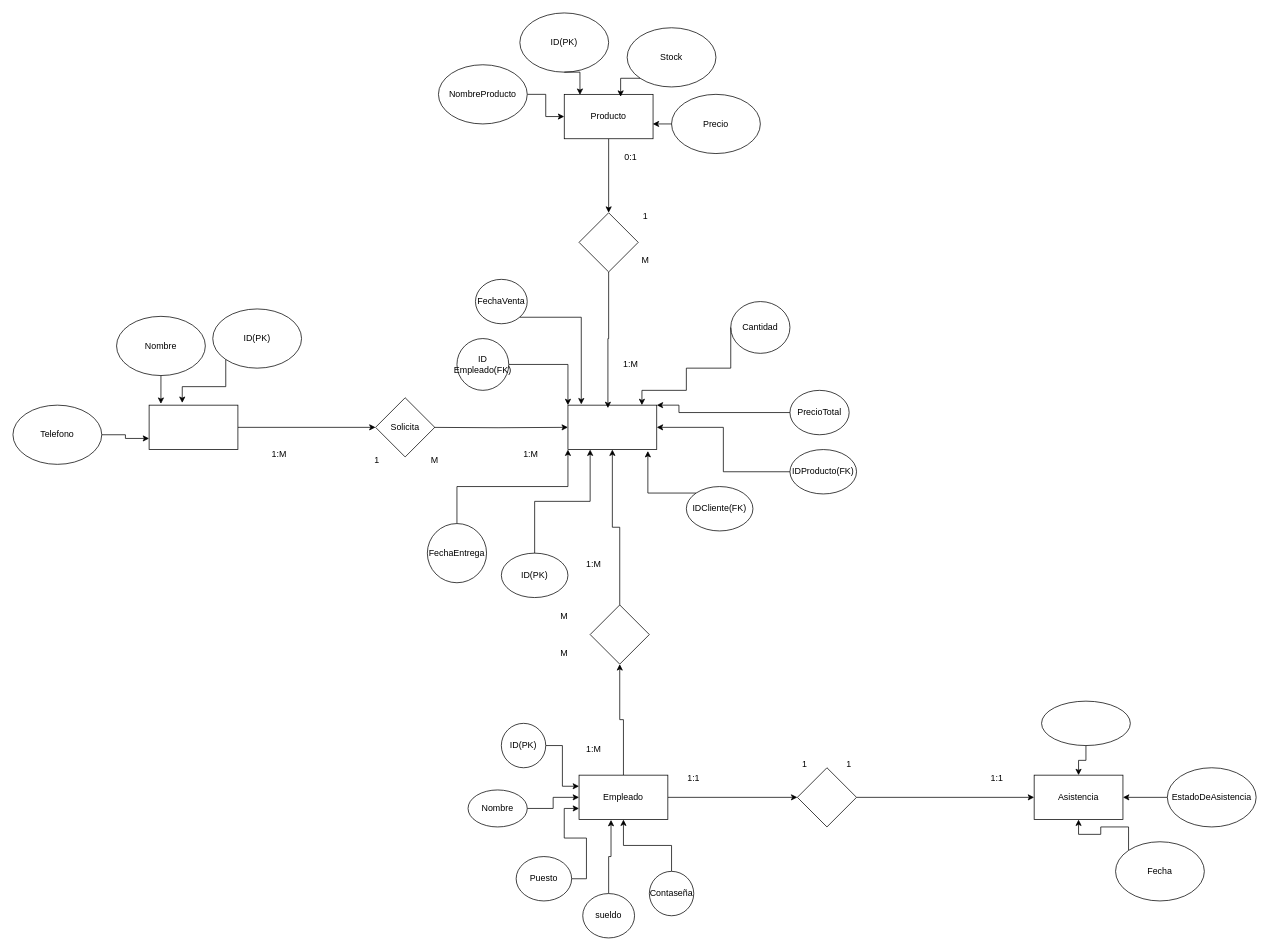
The diagram is 1269 pixels wide and 951 high, and some of its shapes have lost their labels. The shapes that lost their labels are listed below. From the top down, each one's box as (x1, y1, x2, y2) in pixels, then its label:
(578, 212, 638, 272): integra
(148, 404, 238, 450): Cliente
(567, 404, 657, 450): Venta
(589, 604, 649, 664): registra
(1041, 700, 1130, 746): IDEmpleado(FK)
(797, 767, 857, 827): tiene
